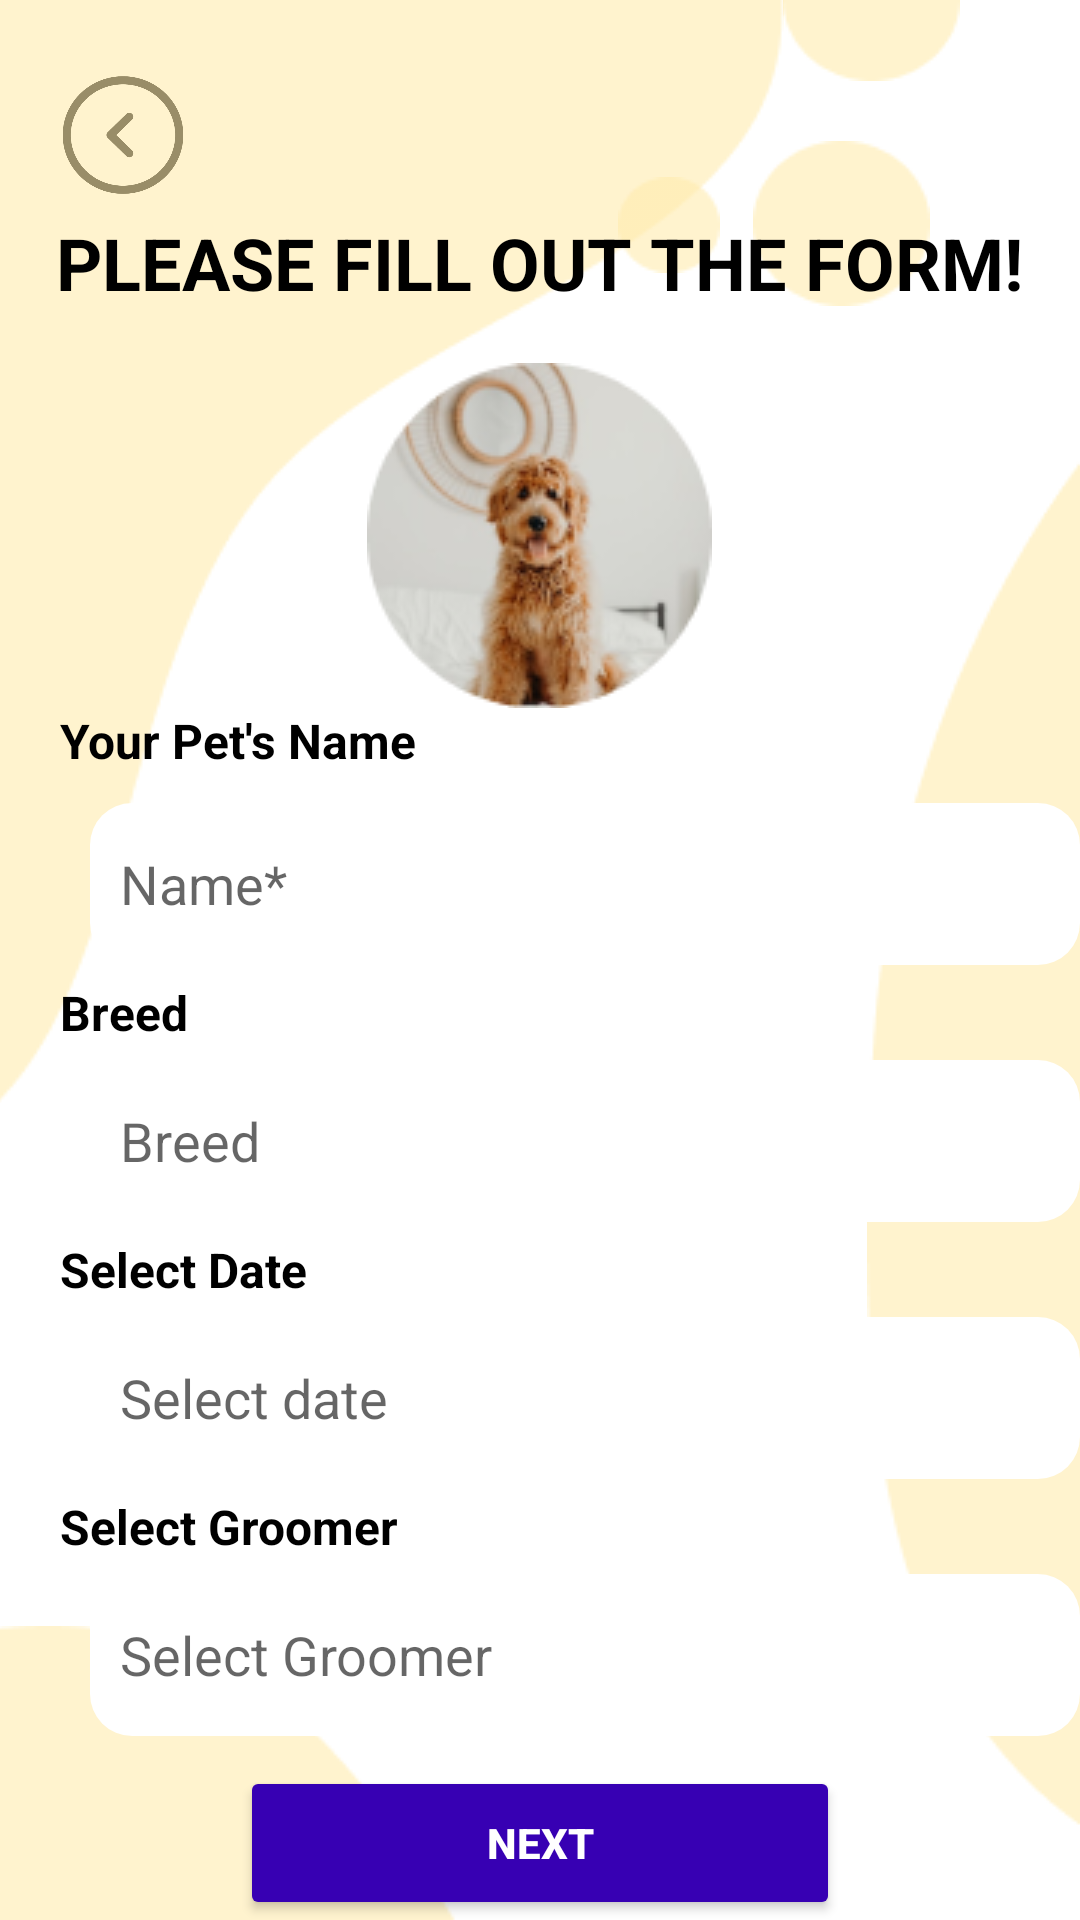

Where icons sit on this 1080×1920 app screen, as Rect(x1, y1, x2, y2):
assetdog: Rect(367, 363, 712, 708)
back: Rect(63, 76, 183, 194)
